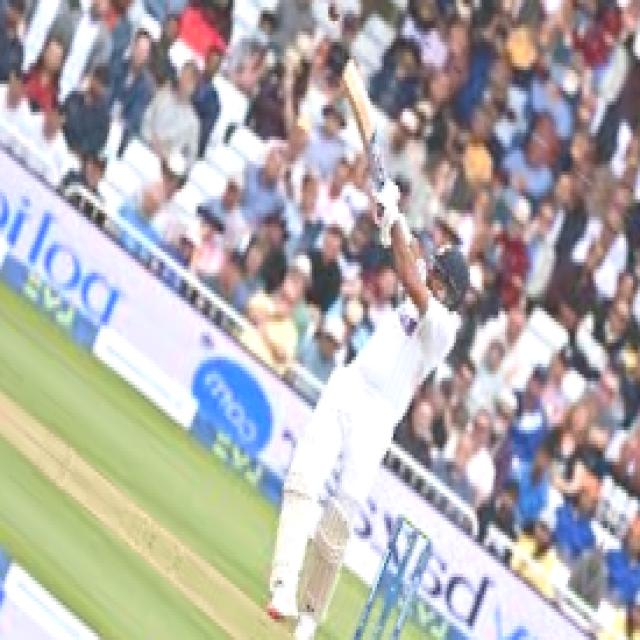toe: (341, 51, 355, 88)
